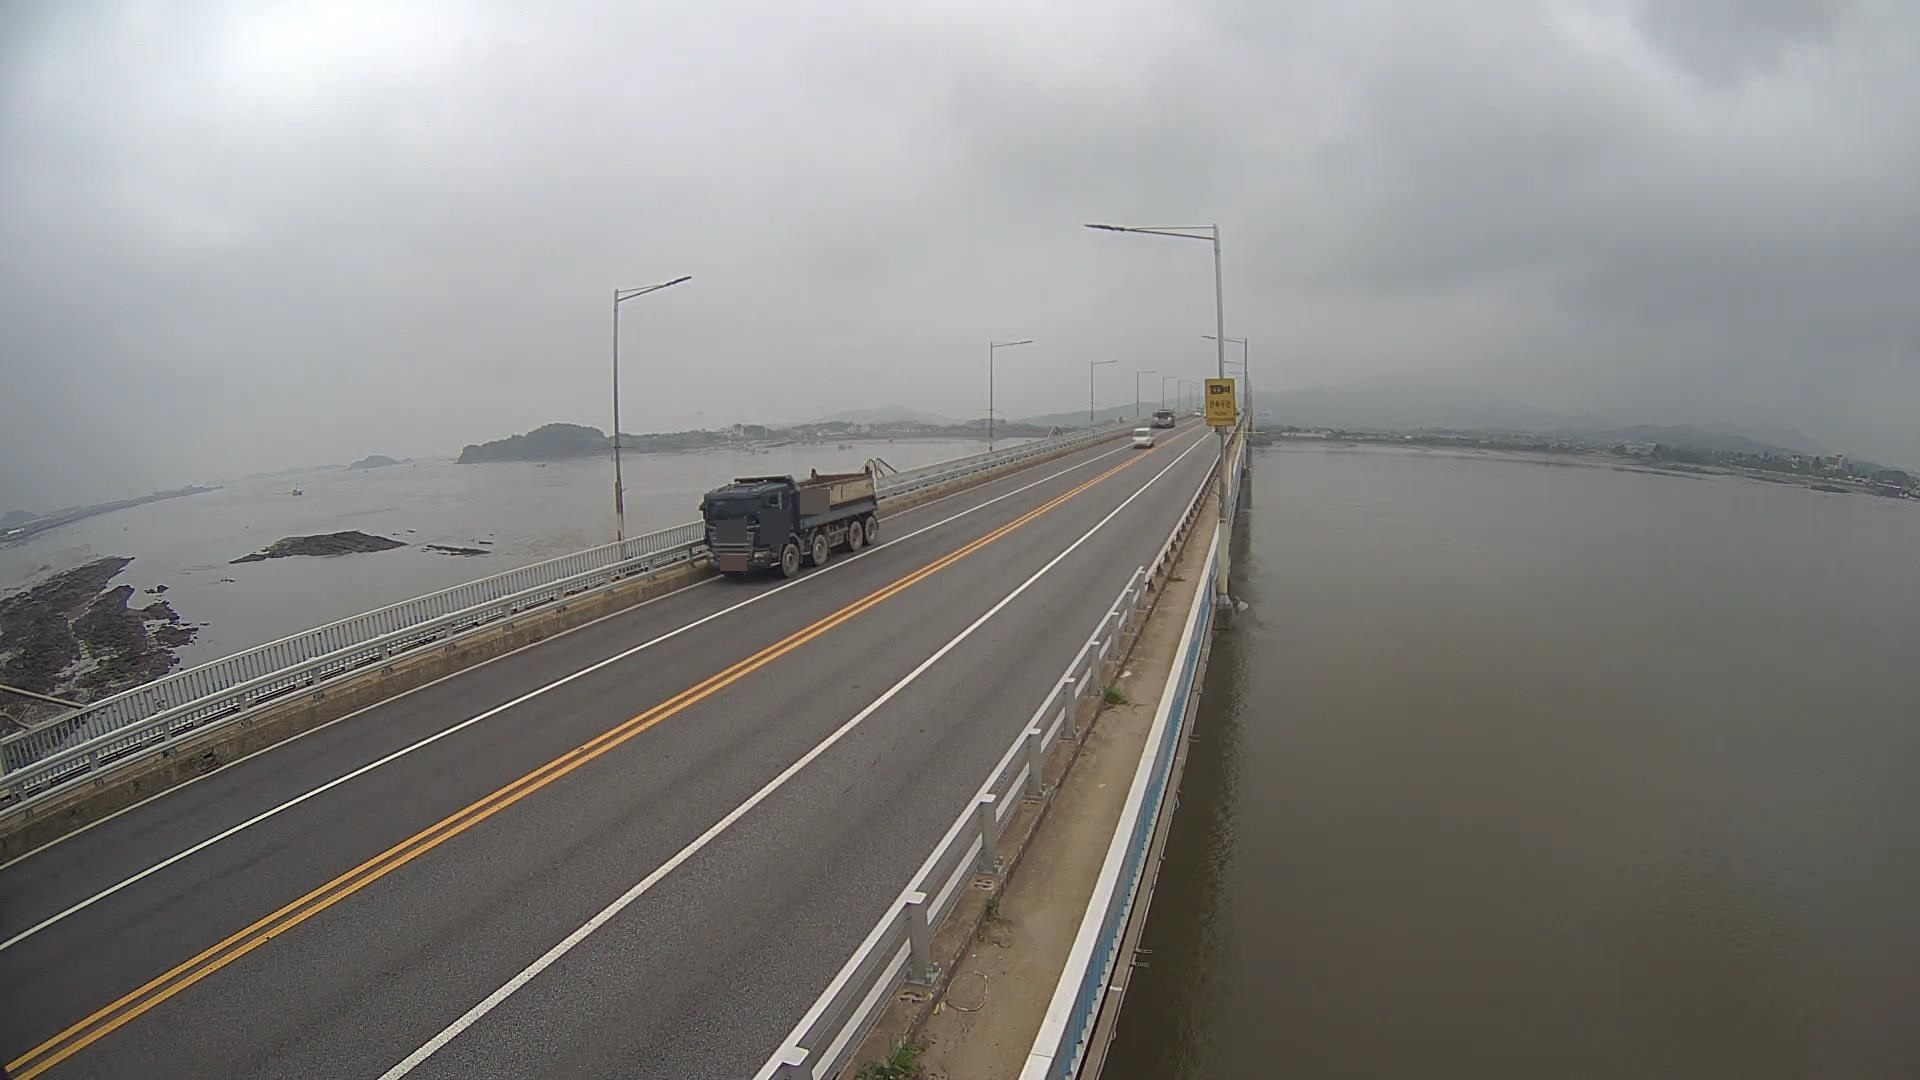정상차량: (698, 465, 880, 578)
